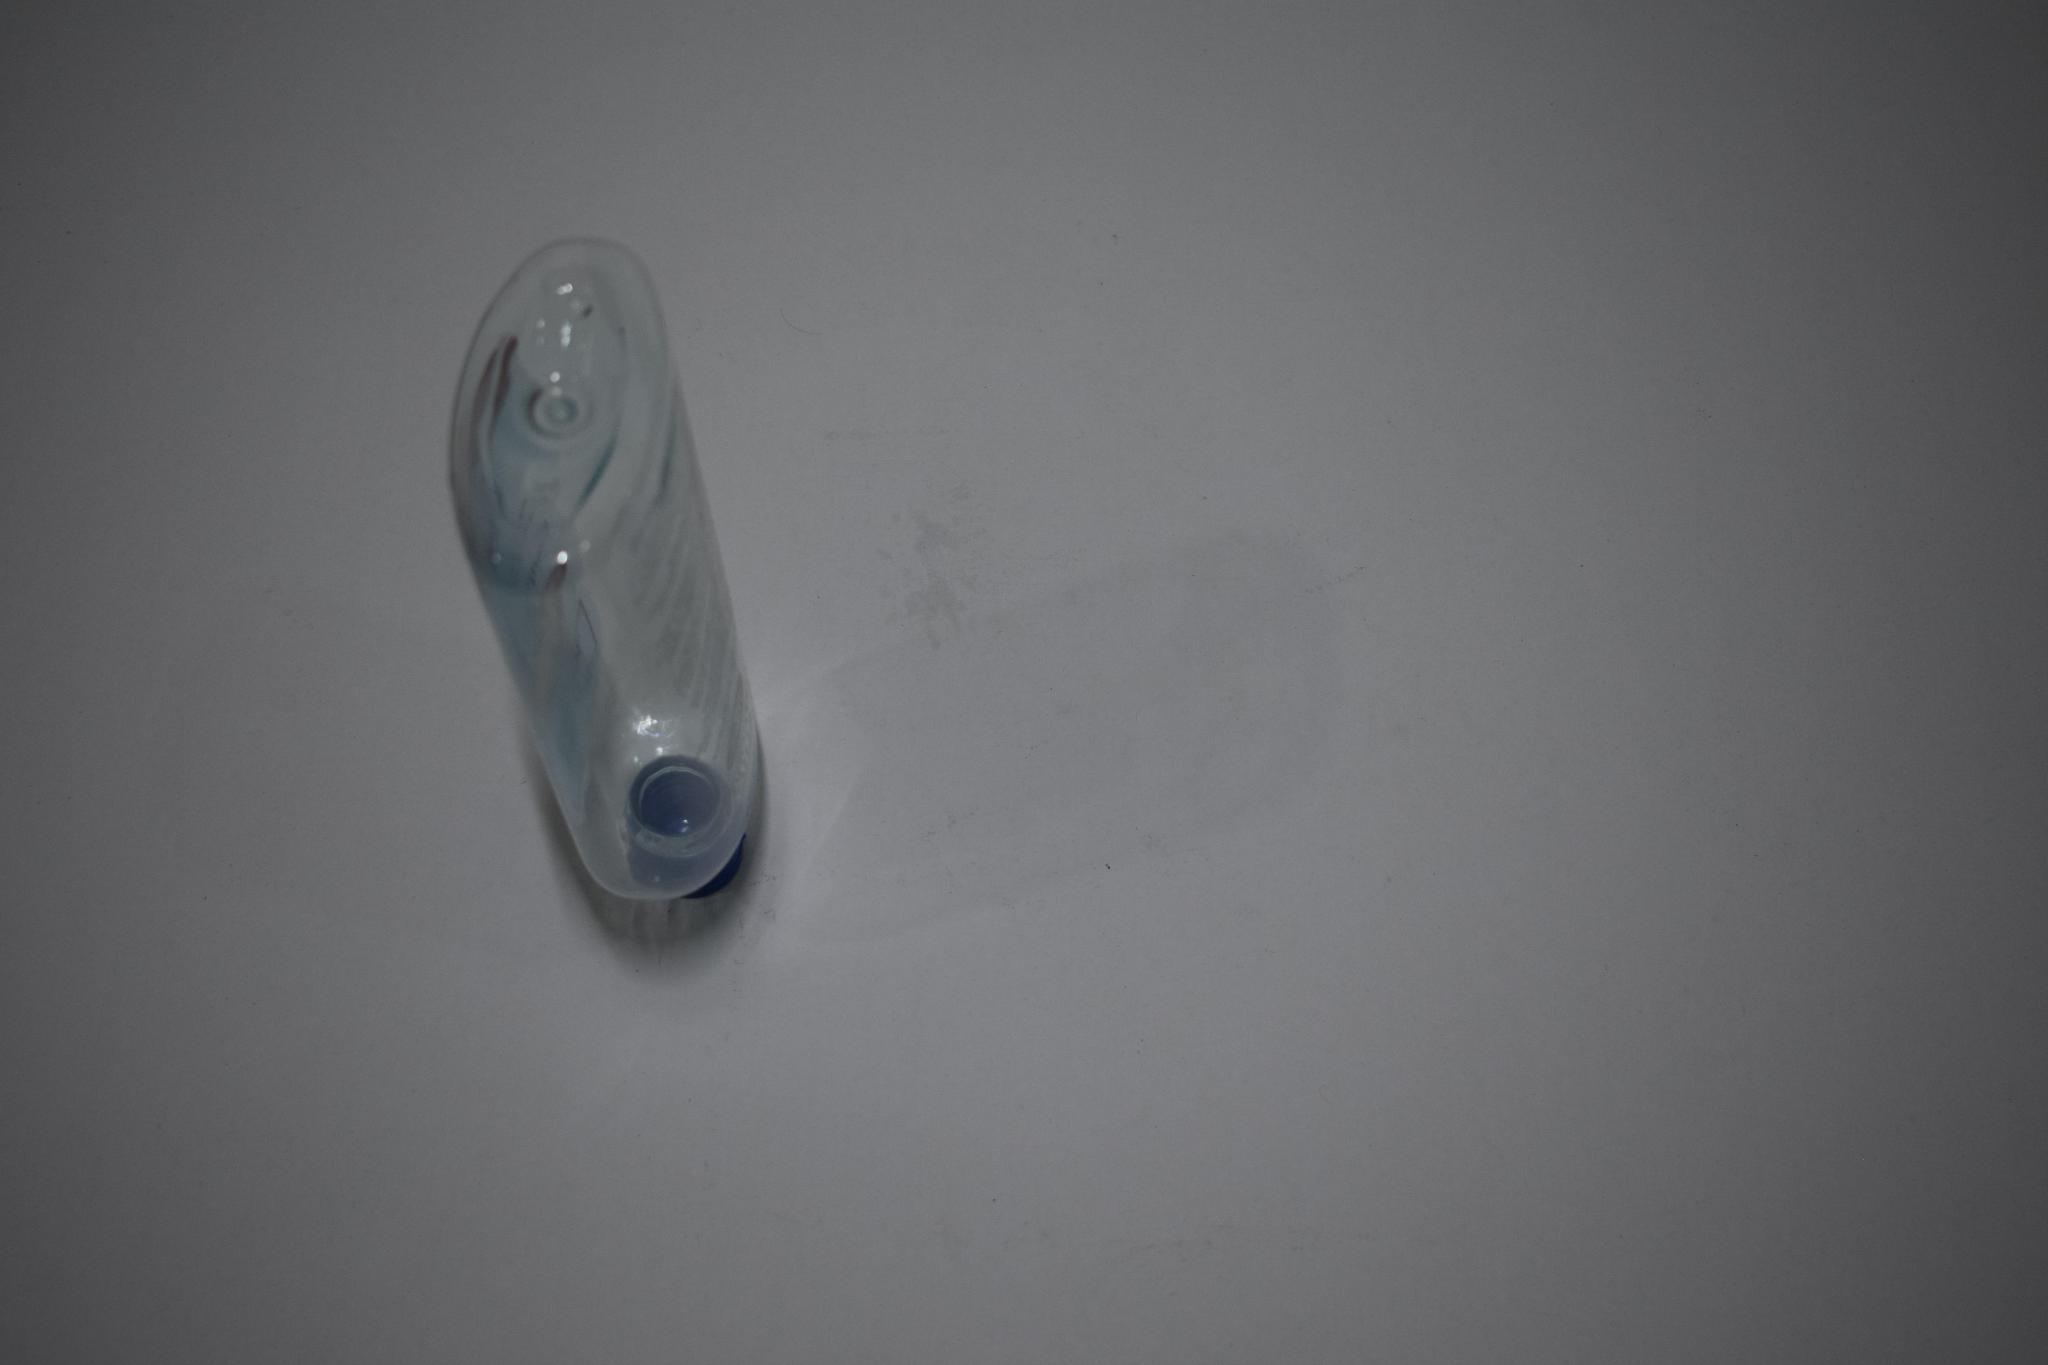bottle: (420, 237, 820, 933)
